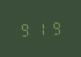nine: (18, 21, 31, 37), (47, 19, 60, 35)
one: (33, 20, 46, 36)
